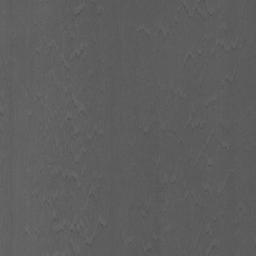Silk spot: (56, 225, 81, 238), (44, 197, 59, 210), (75, 47, 85, 59), (64, 175, 76, 184)
